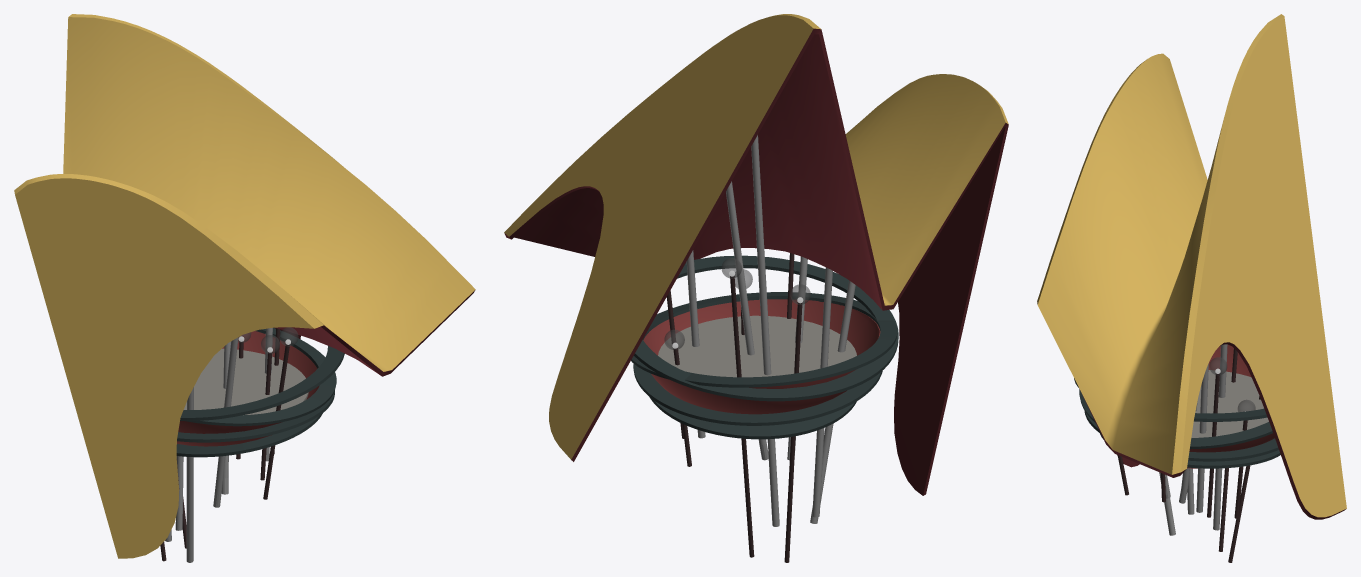
Rendered from brave_eagles.glb.
3 renders of one model, left to right at view 1: azimuth 30°, elevation 25°; view 2: azimuth 150°, elevation 25°; view 3: azimuth 270°, elevation 25°, orthographic. The views are drawn at different scales.
Visible parts, largest first — view 1: Group004, Shape001, Cylinder020, Line011, Sphere001, Line019; view 2: Group004, Shape001, Line019, Cylinder020, Sphere001, Line011; view 3: Group004, Shape001, Line011, Cylinder020, Line019, Sphere001.
Part boxes in pixels (x1,y1,x2,y2): Group004: [14, 14, 475, 558]; Shape001: [176, 327, 344, 457]; Cylinder020: [183, 348, 308, 415]; Line011: [213, 327, 298, 507]; Sphere001: [177, 331, 319, 446]; Line019: [160, 387, 193, 562]; Group004: [504, 14, 1008, 495]; Shape001: [631, 255, 898, 439]; Line019: [721, 135, 855, 562]; Cylinder020: [658, 315, 856, 377]; Sphere001: [643, 299, 880, 414]; Line011: [664, 181, 807, 466]; Group004: [1037, 14, 1346, 519]; Shape001: [1074, 378, 1280, 468]; Line011: [1117, 357, 1255, 518]; Cylinder020: [1191, 370, 1268, 437]; Line019: [1159, 344, 1260, 562]; Sphere001: [1187, 344, 1274, 468].
Bounding box in the file's own units: 17.67 × 19.52 × 10.78.
